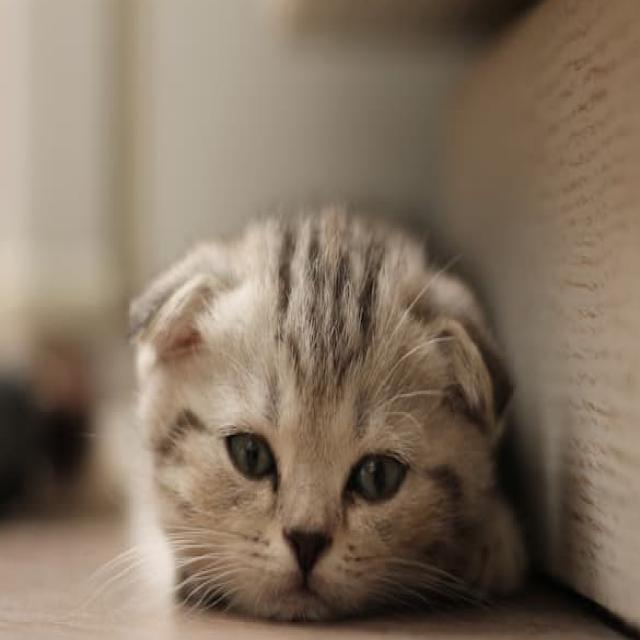Scottish Fold: (122, 194, 534, 628)
